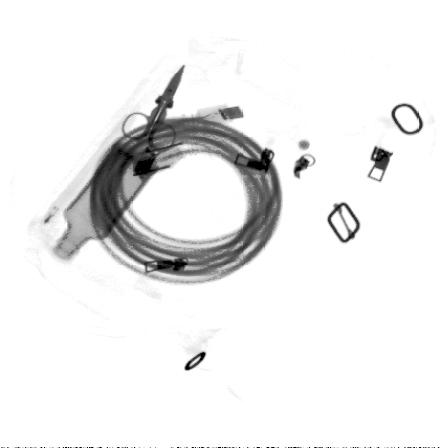Scissors: (116, 61, 185, 154)
